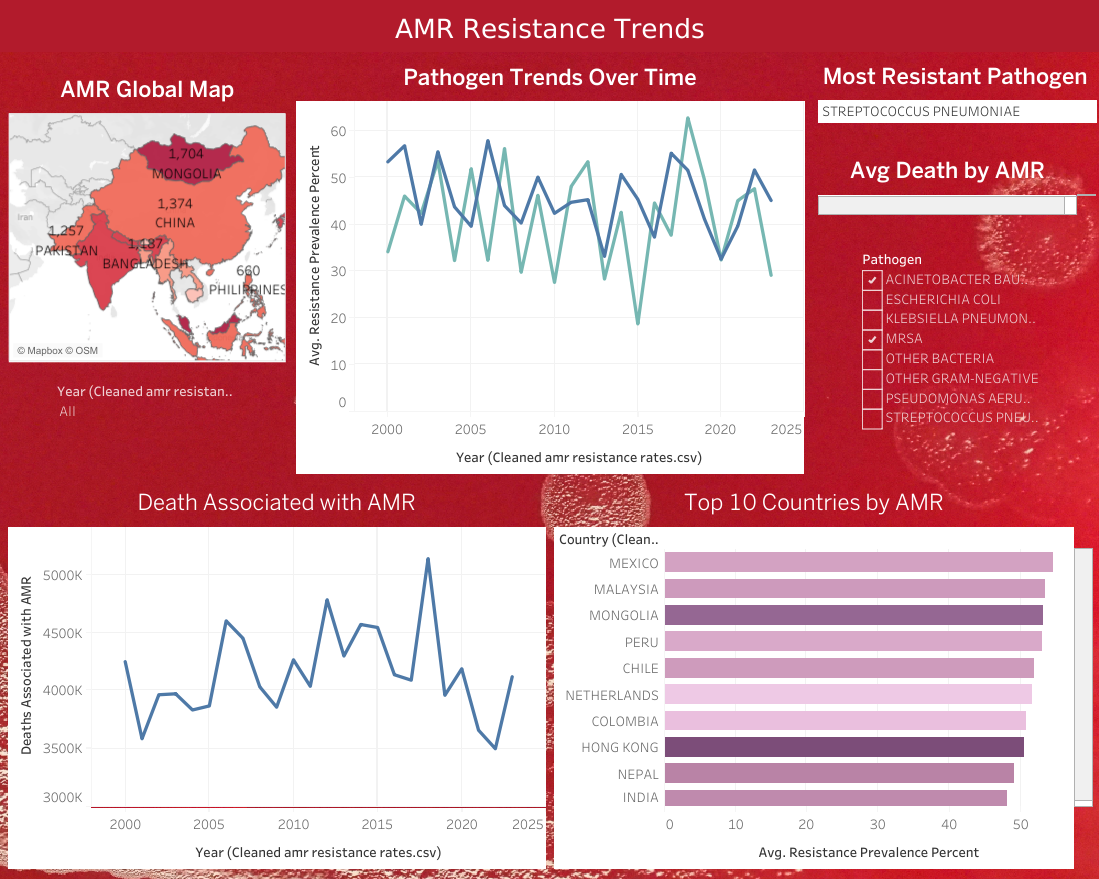

What the dashboard file says about the page in this screenshot:
{"tool":"tableau","page":{"name":"AMR Resistance trend","canvas":[1000,800],"ordinal":0},"visuals":[{"type":"title","box":[8,8,984,42]},{"type":"worksheet","title":"KPI 4","mark":"Automatic","box":[740,47,261,86]},{"type":"legend","title":"Top Country","param":"[federated.1agtw460170cfs1dhswdz05hcjh9].[sum:Deaths_Associated_with_AMR:qk]","box":[8,50,984,65]},{"type":"worksheet","title":"Pathogen","mark":"Automatic","rows":["Resistance_Prevalence_Percent"],"cols":["Year (Cleaned_amr_resistance_rates.csv)"],"box":[269,52,462,379]},{"type":"worksheet","title":"AMR","mark":"Multipolygon","box":[8,63,252,266]},{"type":"blank","box":[8,115,984,677]},{"type":"worksheet","title":"KPI 5","mark":"Automatic","box":[740,133,261,67]},{"type":"filter","title":"Pathogen","param":"[federated.1agtw460170cfs1dhswdz05hcjh9].[none:Pathogen:nk]","box":[784,225,160,195]},{"type":"filter","title":"AMR","param":"[federated.1agtw460170cfs1dhswdz05hcjh9].[none:Year (Cleaned_amr_resistance_rate","box":[52,345,160,67]},{"type":"worksheet","title":"Death by AMR","mark":"Automatic","rows":["Deaths_Associated_with_AMR"],"cols":["Year (Cleaned_amr_resistance_rates.csv)"],"box":[3,433,497,361]},{"type":"worksheet","title":"Top Country","mark":"Automatic","rows":["Country (Cleaned_amr_resistance_rates.csv)"],"cols":["Resistance_Prevalence_Percent"],"box":[500,433,498,361]},{"type":"blank","box":[0,439,999,361]}]}

Visuals, with their boxes in screenshot pixels (x1, y1, x2, y2), scaled from the page's 1000x800 canvas onto the 1099x879 screenshot:
title: {"x1": 9, "y1": 9, "x2": 1090, "y2": 55}
"KPI 4" worksheet: {"x1": 813, "y1": 52, "x2": 1098, "y2": 146}
"Top Country" legend: {"x1": 9, "y1": 55, "x2": 1090, "y2": 126}
"Pathogen" worksheet: {"x1": 296, "y1": 57, "x2": 803, "y2": 474}
"AMR" worksheet (Multipolygon marks): {"x1": 9, "y1": 69, "x2": 286, "y2": 361}
blank: {"x1": 9, "y1": 126, "x2": 1090, "y2": 870}
"KPI 5" worksheet: {"x1": 813, "y1": 146, "x2": 1098, "y2": 220}
"Pathogen" filter: {"x1": 862, "y1": 247, "x2": 1037, "y2": 461}
"AMR" filter: {"x1": 57, "y1": 379, "x2": 233, "y2": 453}
"Death by AMR" worksheet: {"x1": 3, "y1": 476, "x2": 550, "y2": 872}
"Top Country" worksheet: {"x1": 550, "y1": 476, "x2": 1097, "y2": 872}
blank: {"x1": 0, "y1": 482, "x2": 1098, "y2": 878}
